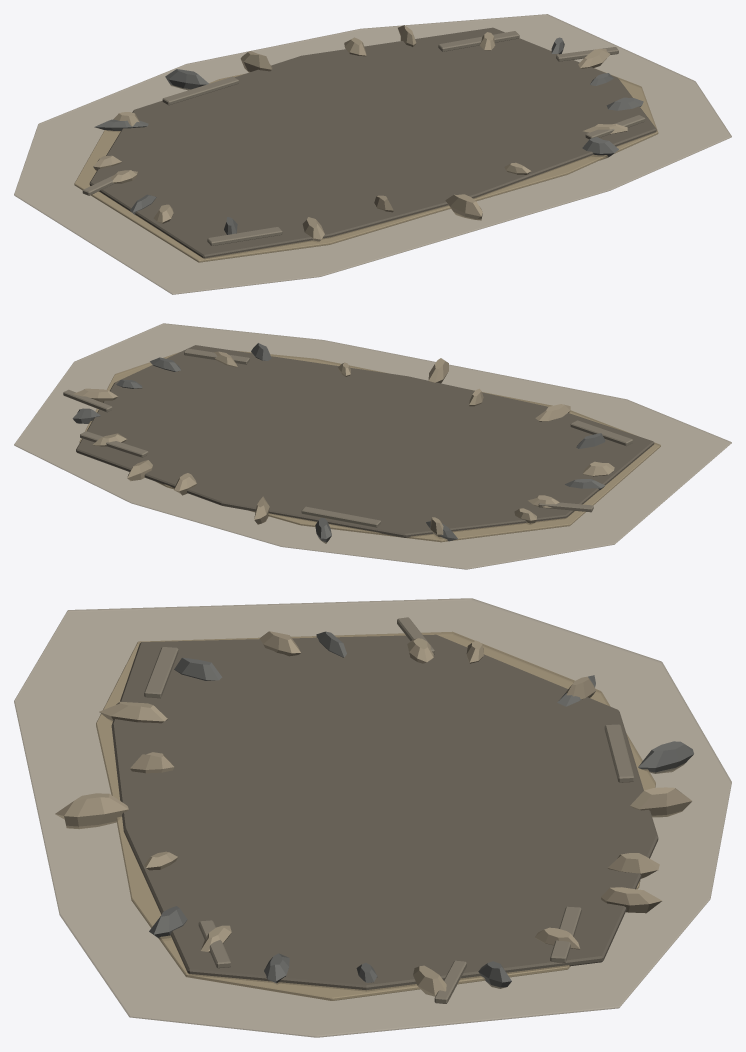
File: pad-ground-blend.glb
3 renders of one model, top to bottom at view 1: azimuth 30°, elevation 25°; view 2: azimuth 150°, elevation 25°; view 3: azimuth 270°, elevation 25°, orthographic. The views are drawn at different scales.
Parts seen in each view (by area): view 1: pad_ground_sunken_shelf, pad_ground_outer_dust, pad_ground_packed_inner, pad_ground_settled_lip_1, pad_ground_settled_lip_0, pad_ground_edge_gravel_19, pad_ground_edge_gravel_3, pad_ground_settled_lip_3, pad_ground_edge_gravel_9, pad_ground_edge_gravel_14; view 2: pad_ground_sunken_shelf, pad_ground_outer_dust, pad_ground_packed_inner, pad_ground_settled_lip_1, pad_ground_settled_lip_0, pad_ground_settled_lip_3; view 3: pad_ground_sunken_shelf, pad_ground_outer_dust, pad_ground_packed_inner, pad_ground_edge_gravel_19, pad_ground_edge_gravel_14, pad_ground_edge_gravel_3, pad_ground_edge_gravel_2, pad_ground_edge_gravel_7, pad_ground_settled_lip_1, pad_ground_settled_lip_0, pad_ground_settled_lip_3, pad_ground_edge_gravel_13 (+2 smaller).
Boxes of the visible parts, left/top/right/bottom form: pad_ground_sunken_shelf: left=89, top=27, right=656, bottom=258; pad_ground_outer_dust: left=14, top=14, right=731, bottom=294; pad_ground_packed_inner: left=74, top=68, right=658, bottom=262; pad_ground_settled_lip_1: left=162, top=76, right=238, bottom=105; pad_ground_settled_lip_0: left=207, top=227, right=282, bottom=245; pad_ground_edge_gravel_19: left=445, top=194, right=482, bottom=220; pad_ground_edge_gravel_3: left=165, top=69, right=208, bottom=90; pad_ground_settled_lip_3: left=438, top=31, right=519, bottom=51; pad_ground_edge_gravel_9: left=582, top=137, right=618, bottom=159; pad_ground_edge_gravel_14: left=240, top=51, right=272, bottom=72; pad_ground_sunken_shelf: left=76, top=345, right=654, bottom=537; pad_ground_outer_dust: left=14, top=323, right=731, bottom=569; pad_ground_packed_inner: left=79, top=350, right=660, bottom=542; pad_ground_settled_lip_1: left=301, top=506, right=380, bottom=527; pad_ground_settled_lip_0: left=570, top=420, right=632, bottom=445; pad_ground_settled_lip_3: left=80, top=431, right=148, bottom=457; pad_ground_sunken_shelf: left=111, top=634, right=658, bottom=991; pad_ground_outer_dust: left=14, top=598, right=731, bottom=1037; pad_ground_packed_inner: left=96, top=631, right=655, bottom=1000; pad_ground_edge_gravel_19: left=55, top=793, right=128, bottom=828; pad_ground_edge_gravel_14: left=630, top=787, right=691, bottom=817; pad_ground_edge_gravel_3: left=638, top=741, right=693, bottom=773; pad_ground_edge_gravel_2: left=601, top=887, right=661, bottom=913; pad_ground_edge_gravel_7: left=99, top=701, right=167, bottom=723; pad_ground_settled_lip_1: left=604, top=724, right=634, bottom=782; pad_ground_settled_lip_0: left=144, top=647, right=178, bottom=698; pad_ground_settled_lip_3: left=550, top=906, right=581, bottom=962; pad_ground_edge_gravel_13: left=608, top=853, right=659, bottom=878.
Bounding box in the file's own units: 7.74 × 0.2621 × 5.36.
